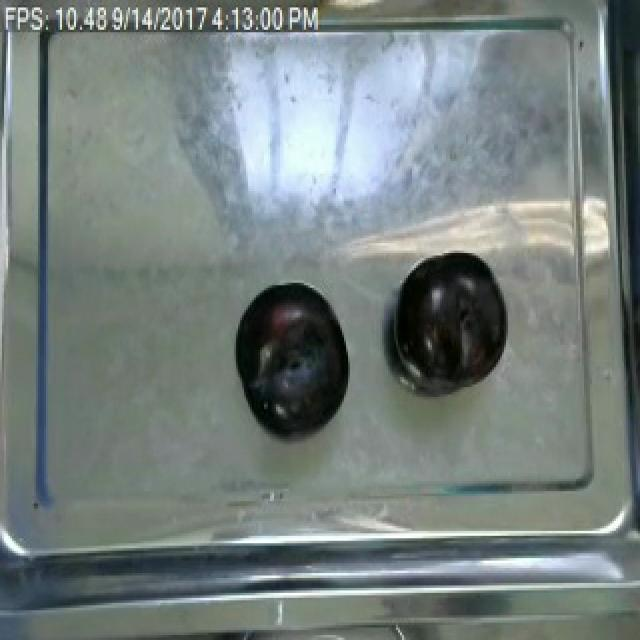Fruit: (230, 278, 352, 434), (390, 250, 510, 390)
